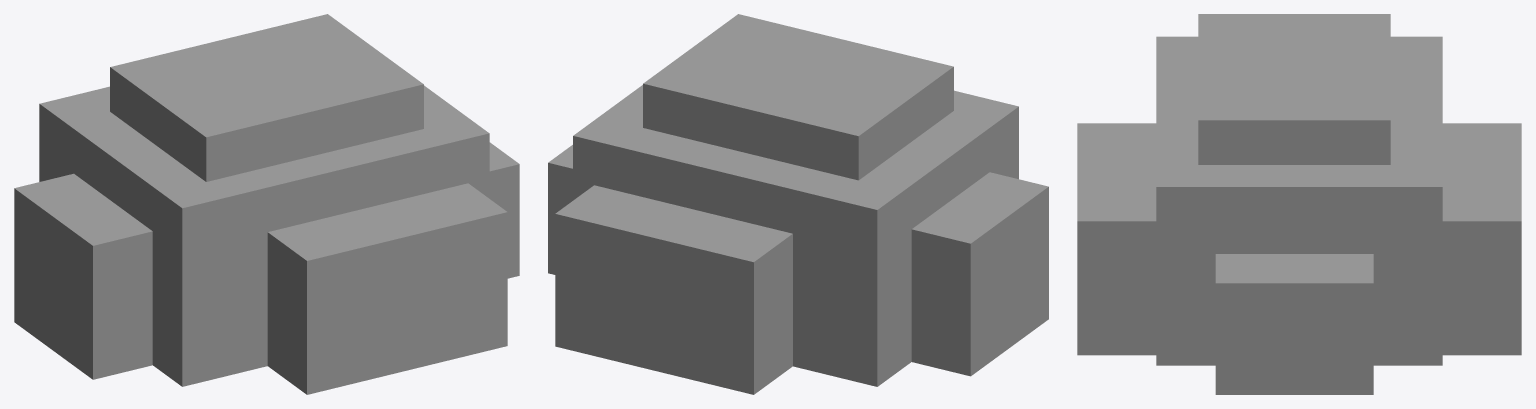
File: Rock.fbx
The picture shows the model from 3 angles, left to right: view 1: azimuth 30°, elevation 25°; view 2: azimuth 150°, elevation 25°; view 3: azimuth 270°, elevation 25°; orthographic projection.
Parts seen in each view (by area): view 1: 큐브; view 2: 큐브; view 3: 큐브.
Part boxes in pixels (<box>): 큐브: <box>14,14,519,394</box>; 큐브: <box>548,14,1048,394</box>; 큐브: <box>1077,14,1521,394</box>.
Bounding box in the file's own units: 100 × 50 × 90.
Materials: 1 (1 with a texture image).
